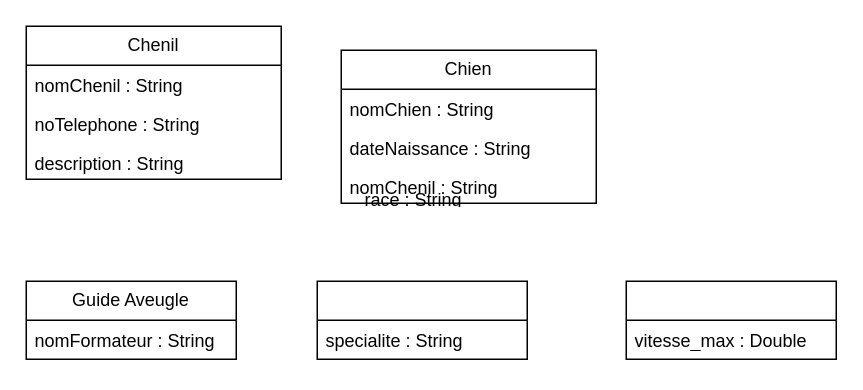
This 863x390 diagram has some shape labels left out. Here are the shapes that lost their labels. From the top down, the box of each, then its label:
(316, 280, 527, 359): Chien de garde
(625, 280, 836, 359): Chien de course
